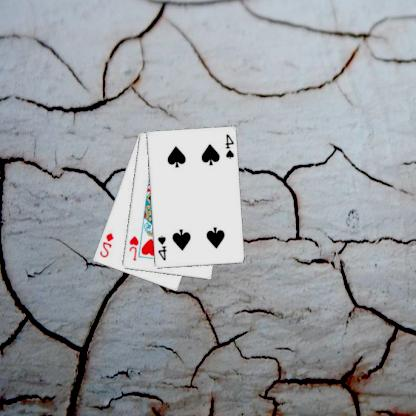2D: (99, 230, 116, 259)
4S: (224, 132, 237, 160), (157, 233, 169, 262)
JH: (128, 233, 141, 262)
